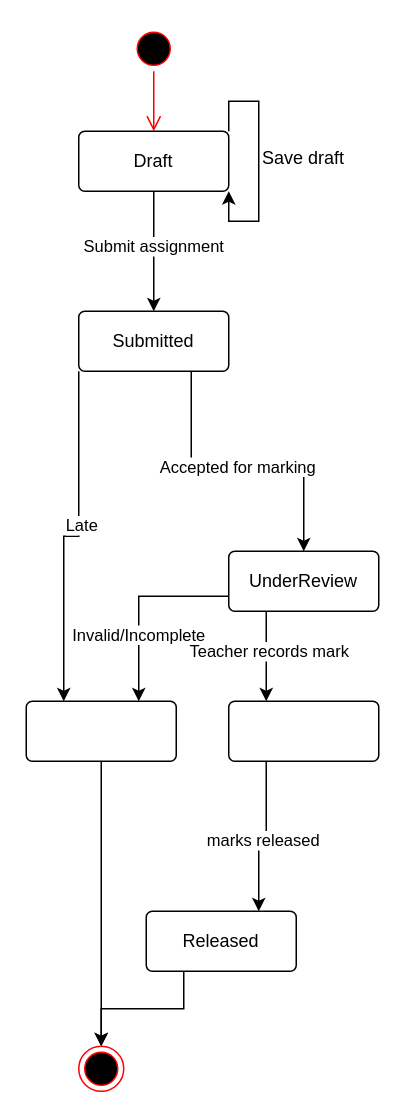
The diagram is 405 pixels wide and 1118 high, and some of its shapes have lost their labels. Here are the shapes that lost their labels. From the top down, the box of each, then its label:
(25, 700, 176, 761): Rejected
(227, 700, 379, 761): Graded
